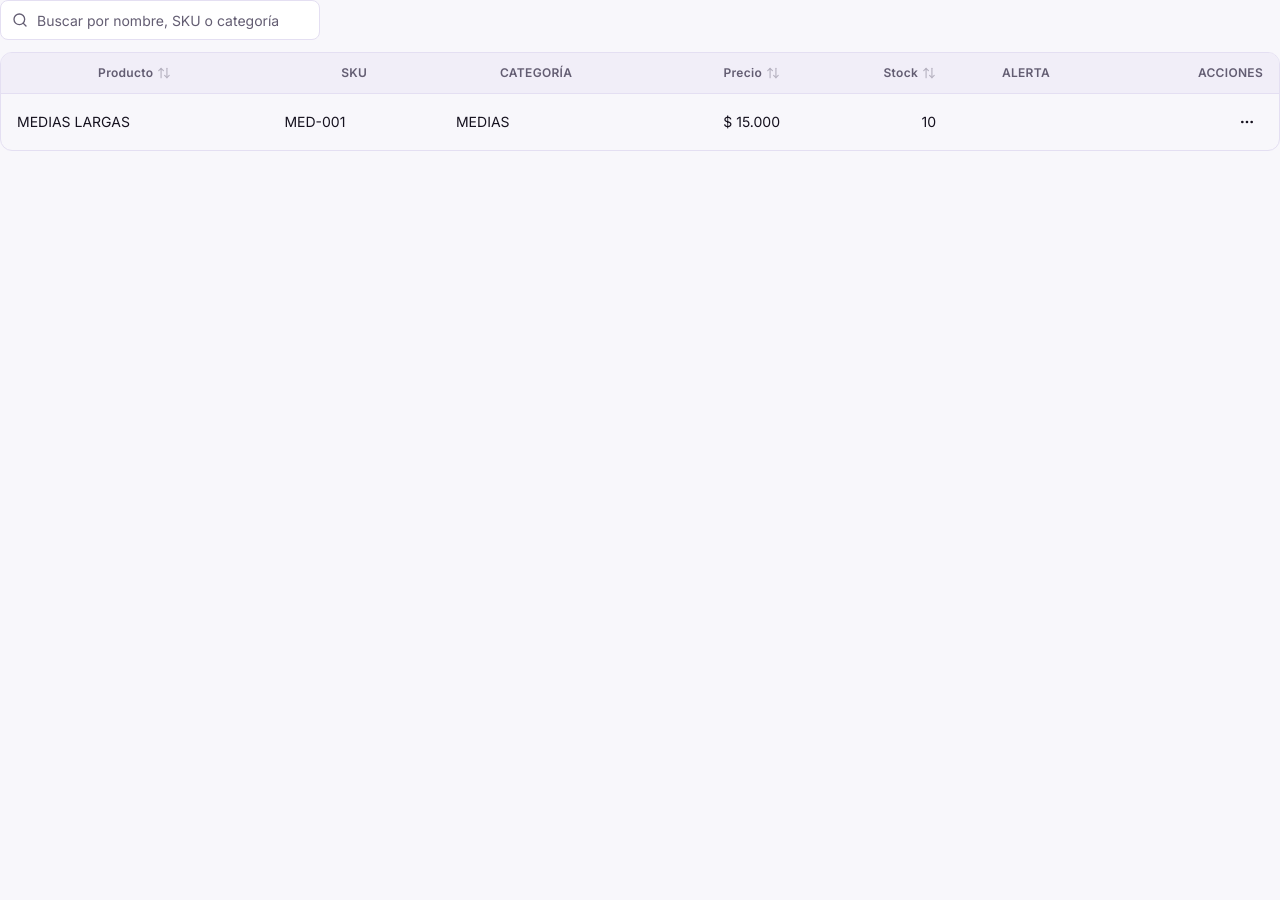
Scenario: ProductsTable › shows the movement history for a product in a drawer
Expected: the text "MEDIAS LARGAS" is shown, [1,94,268,150]
Click the button named "Acciones para MEDIAS LARGAS". click: [1247, 122]
box: [1231,106,1263,138]
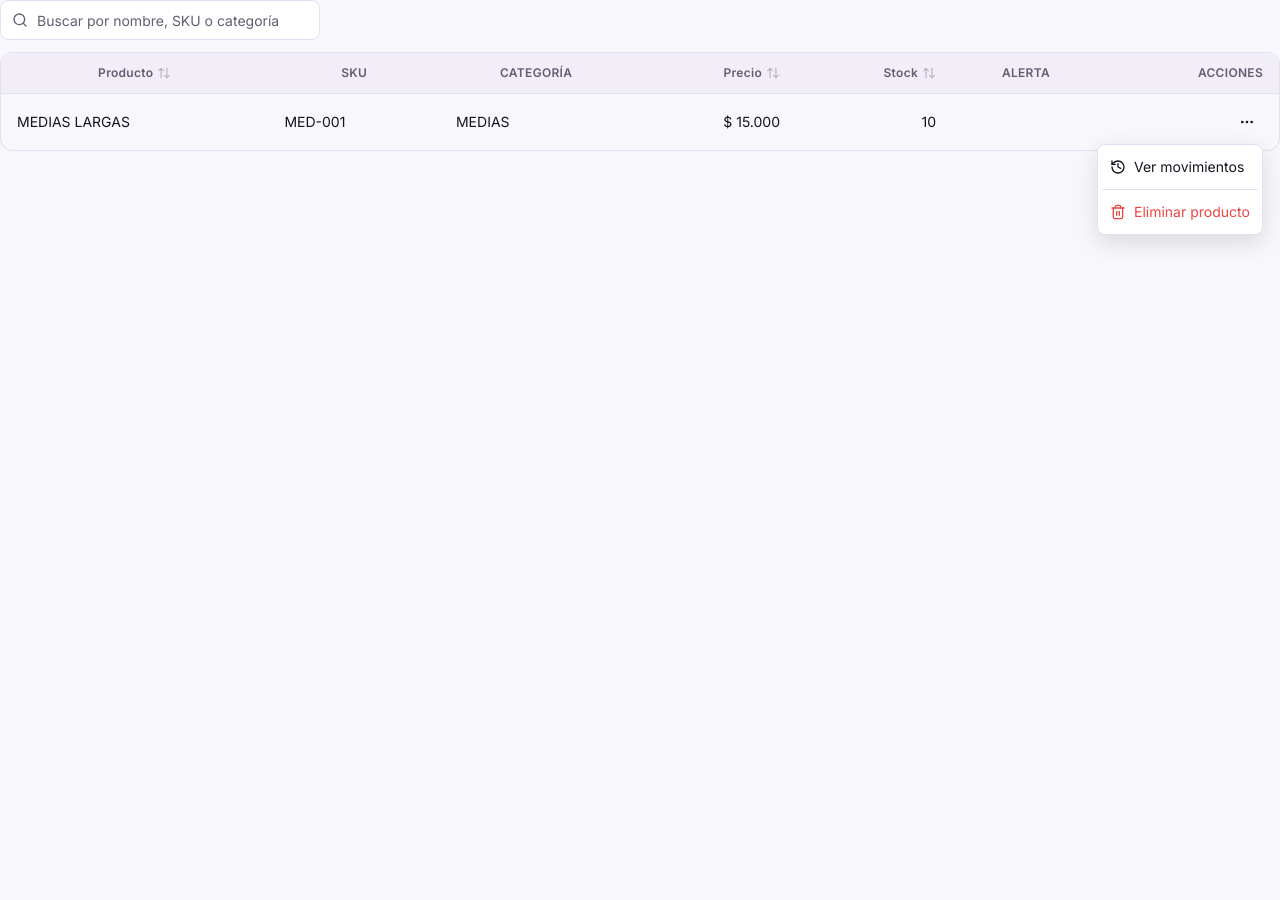
Click the menu item "Ver movimientos". click: [1177, 166]
box: [1110,158,1244,175]
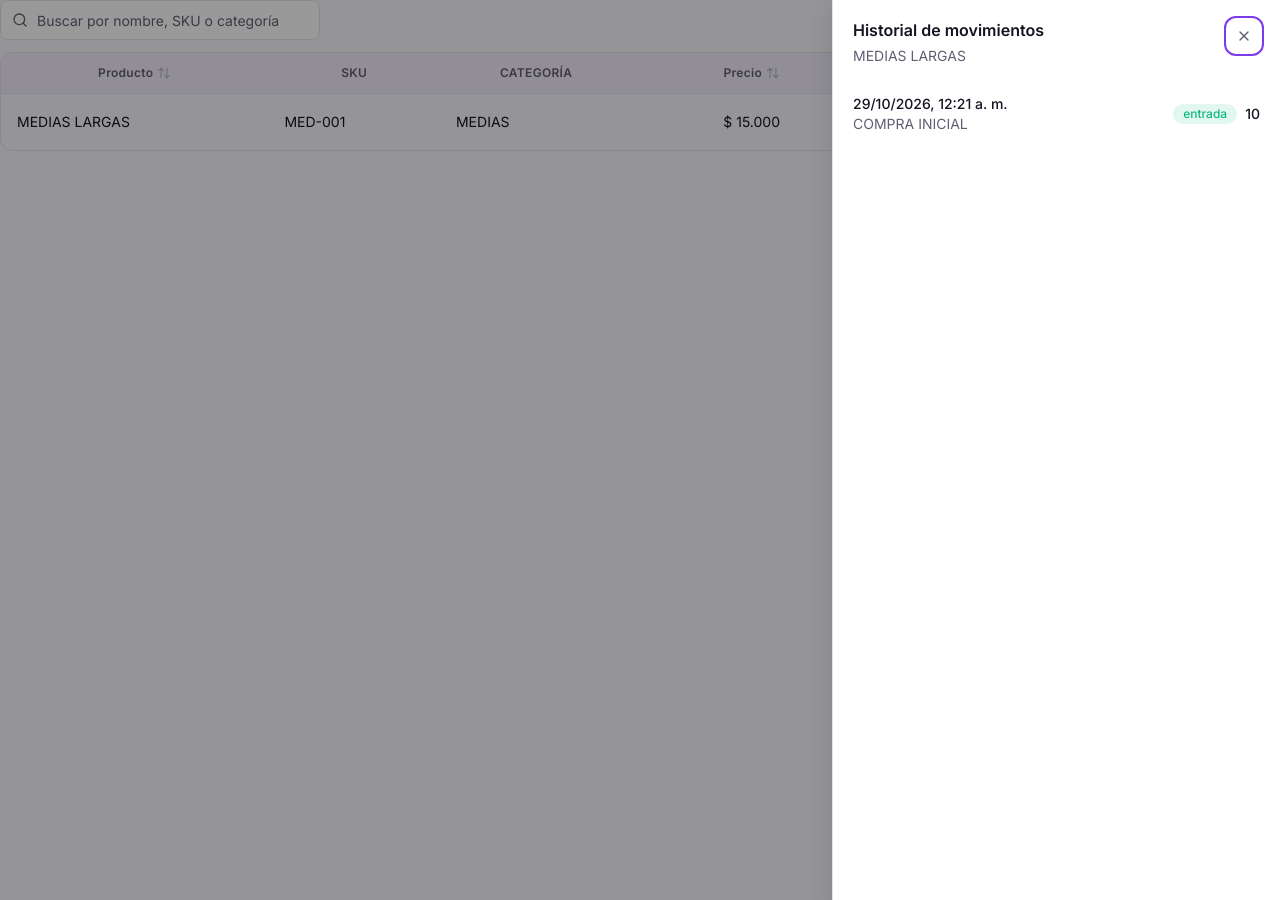
Expected: the text "COMPRA INICIAL" is shown, [853,115,968,132]
Expected: the text "entrada" is shown, [1173,104,1237,124]
